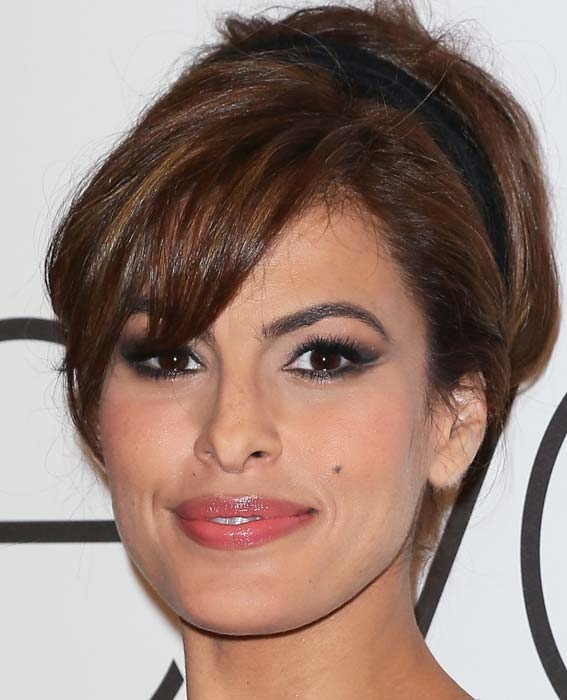mole: (325, 458, 349, 479)
